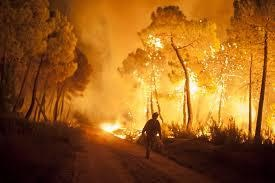fire: (122, 34, 274, 140), (97, 114, 129, 139)
